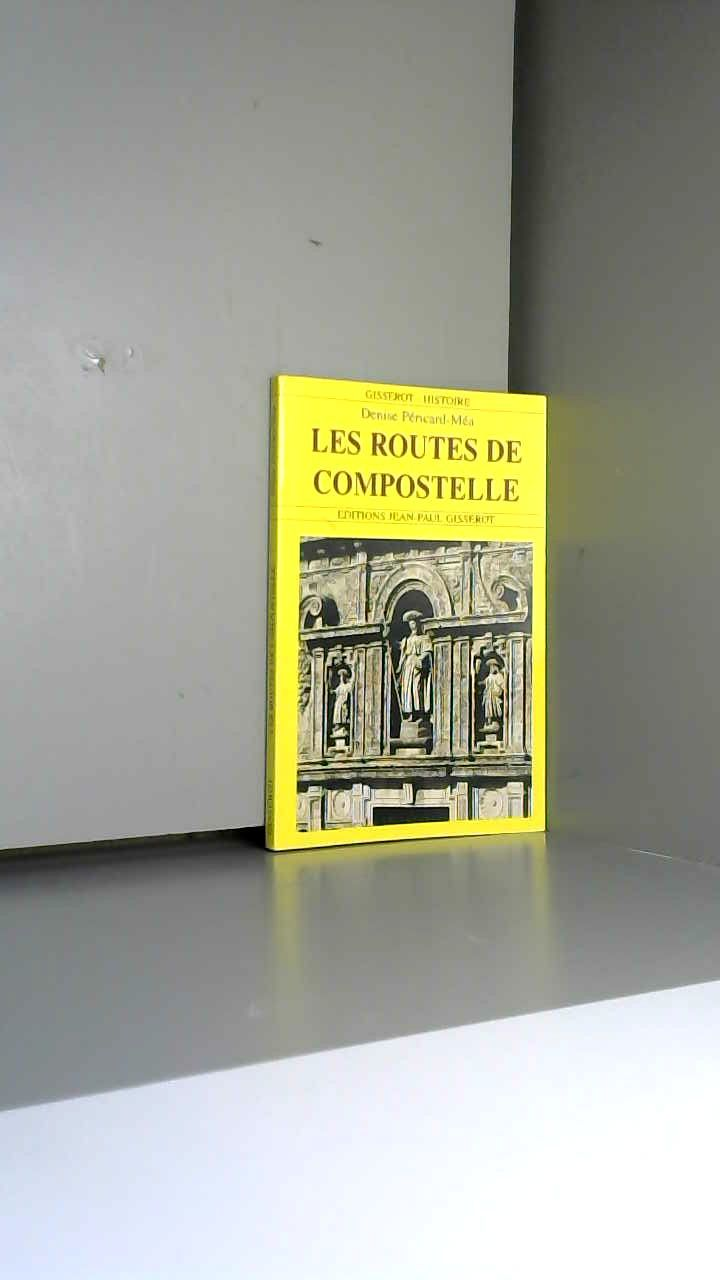book: (222, 329, 586, 915)
